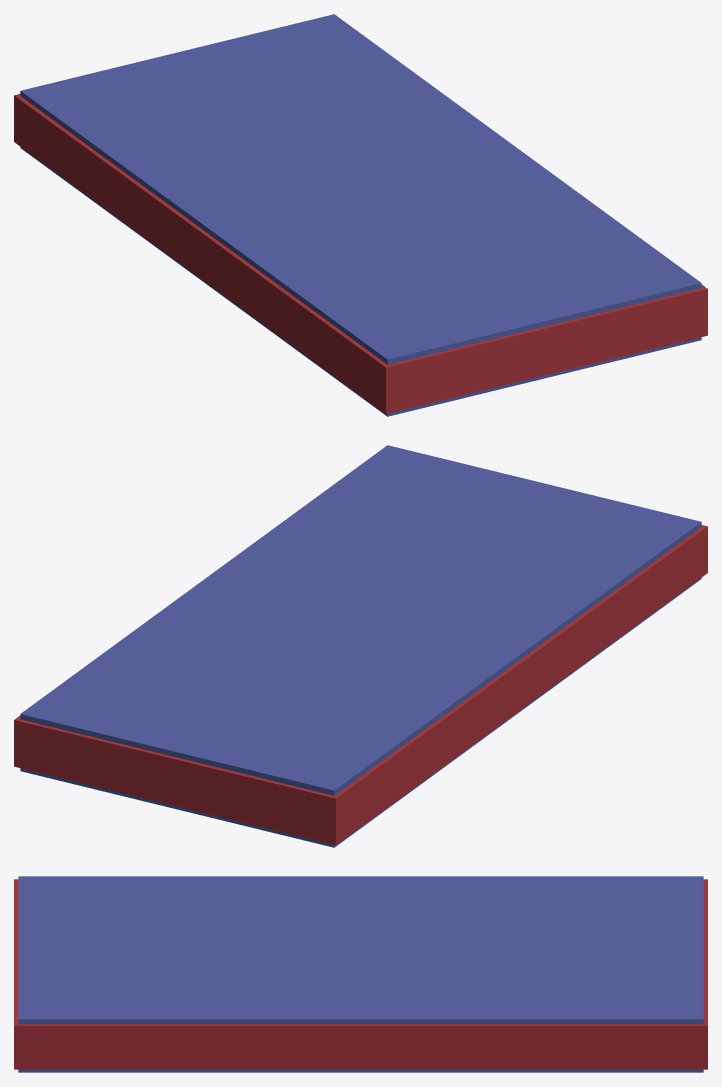
The model's file is SM_TilingFloor4.fbx.
3 renders of one model, top to bottom at view 1: azimuth 30°, elevation 25°; view 2: azimuth 150°, elevation 25°; view 3: azimuth 270°, elevation 25°, orthographic. The views are drawn at different scales.
Visible parts, largest first — view 1: SM_TilingFloor4; view 2: SM_TilingFloor4; view 3: SM_TilingFloor4.
Part boxes in pixels (<box>): SM_TilingFloor4: <box>14,14,707,416</box>; SM_TilingFloor4: <box>14,445,707,847</box>; SM_TilingFloor4: <box>14,876,707,1072</box>.
Bounding box in the file's own units: 400 × 67.89 × 800.
